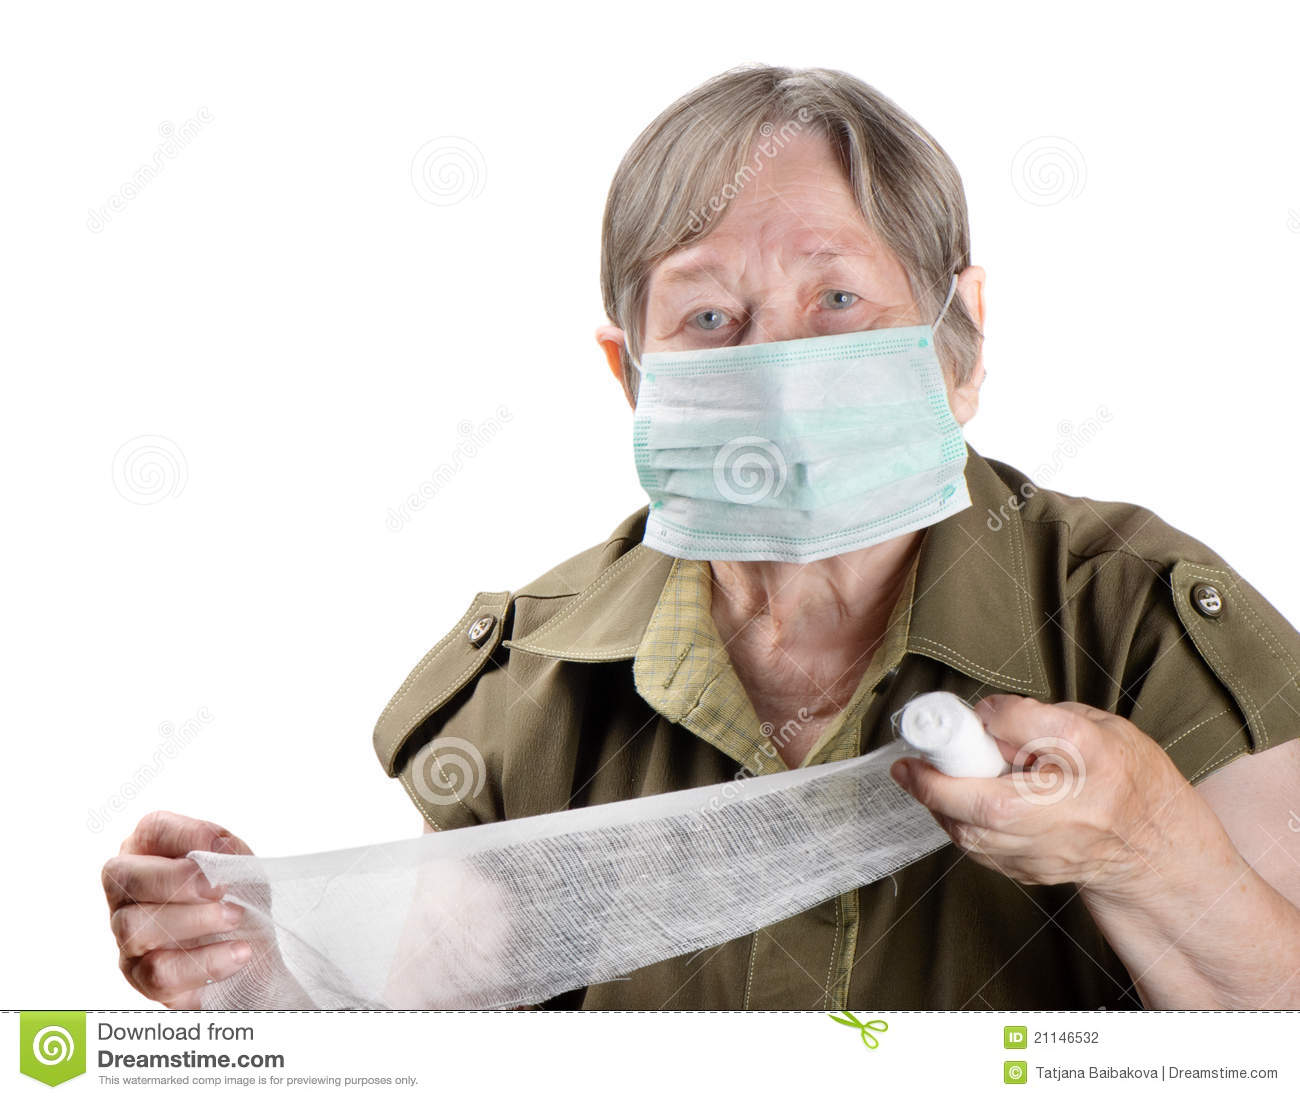mask: (633, 339, 970, 555)
